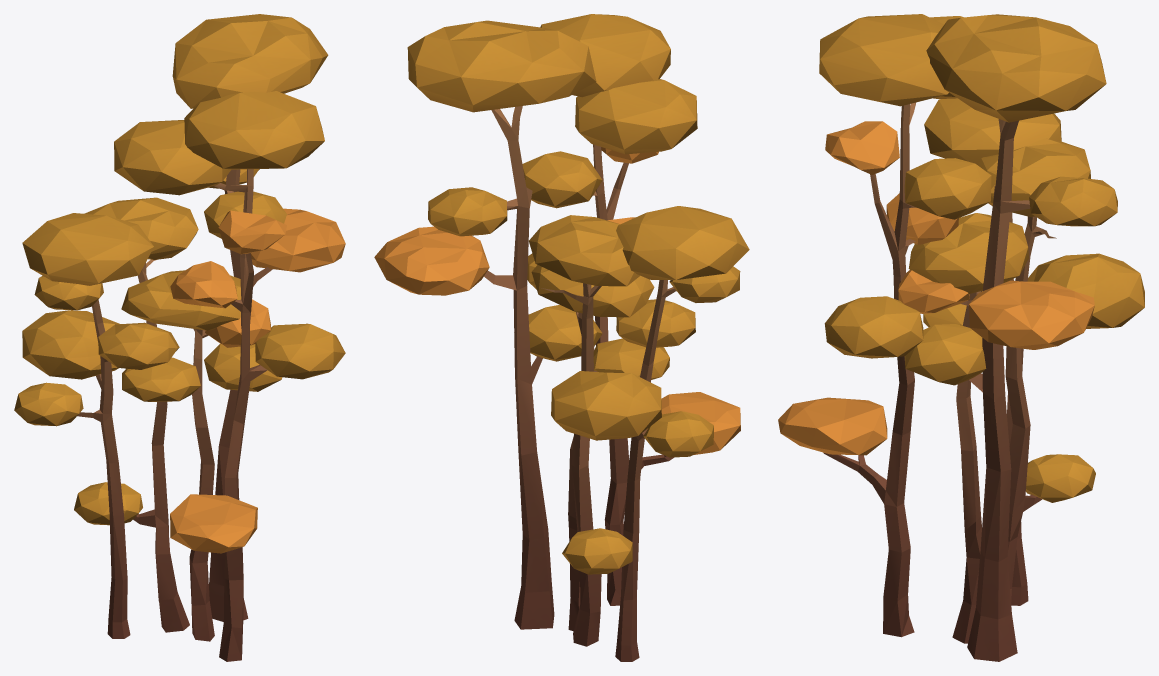
The model's file is ZLP_Plant_F_14.FBX.
The picture shows the model from 3 angles, left to right: view 1: azimuth 30°, elevation 25°; view 2: azimuth 150°, elevation 25°; view 3: azimuth 270°, elevation 25°; orthographic projection. The views are drawn at different scales.
Parts seen in each view (by area): view 1: ZLP_Plant_F_14; view 2: ZLP_Plant_F_14; view 3: ZLP_Plant_F_14.
Boxes of the visible parts, x1,y1,x2,y2 form: ZLP_Plant_F_14: (14, 14, 345, 661); ZLP_Plant_F_14: (374, 14, 749, 661); ZLP_Plant_F_14: (778, 14, 1144, 661).
Bounding box in the file's own units: 369 × 626 × 323.
